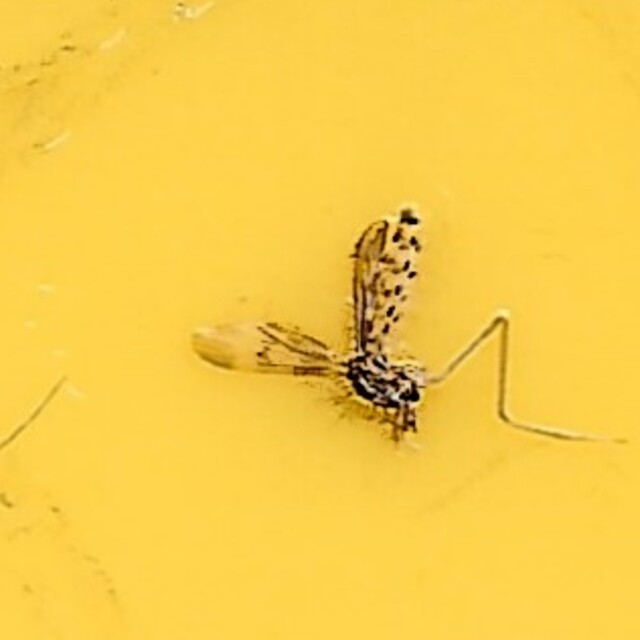Nematocera: (203, 197, 437, 443)
